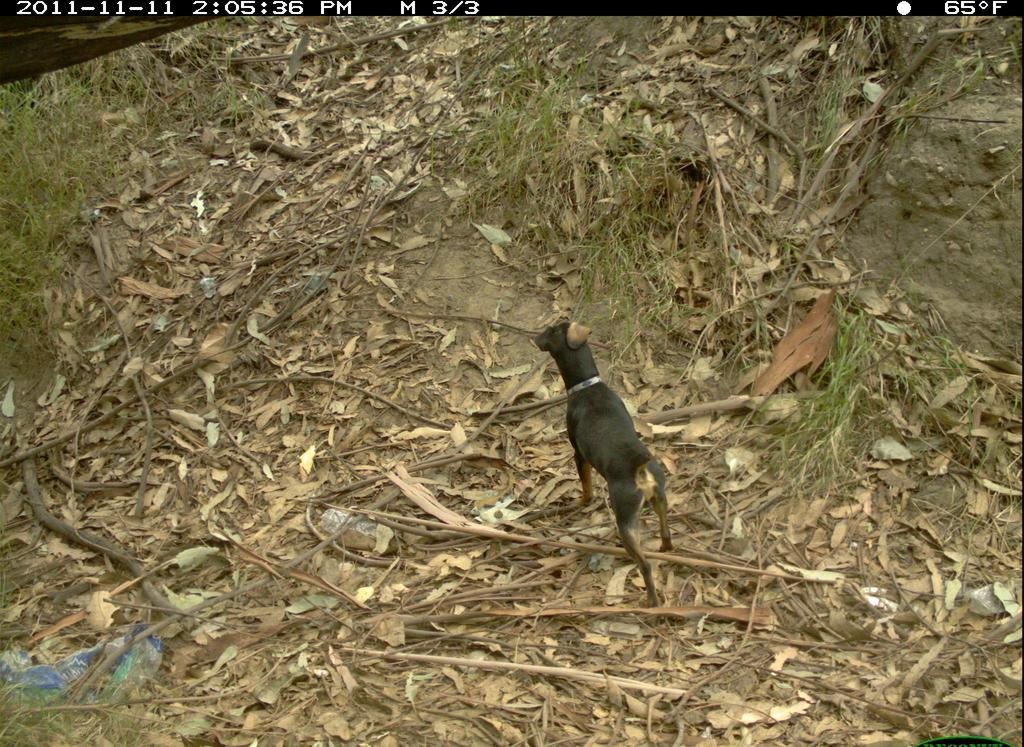dog: (530, 313, 694, 615)
